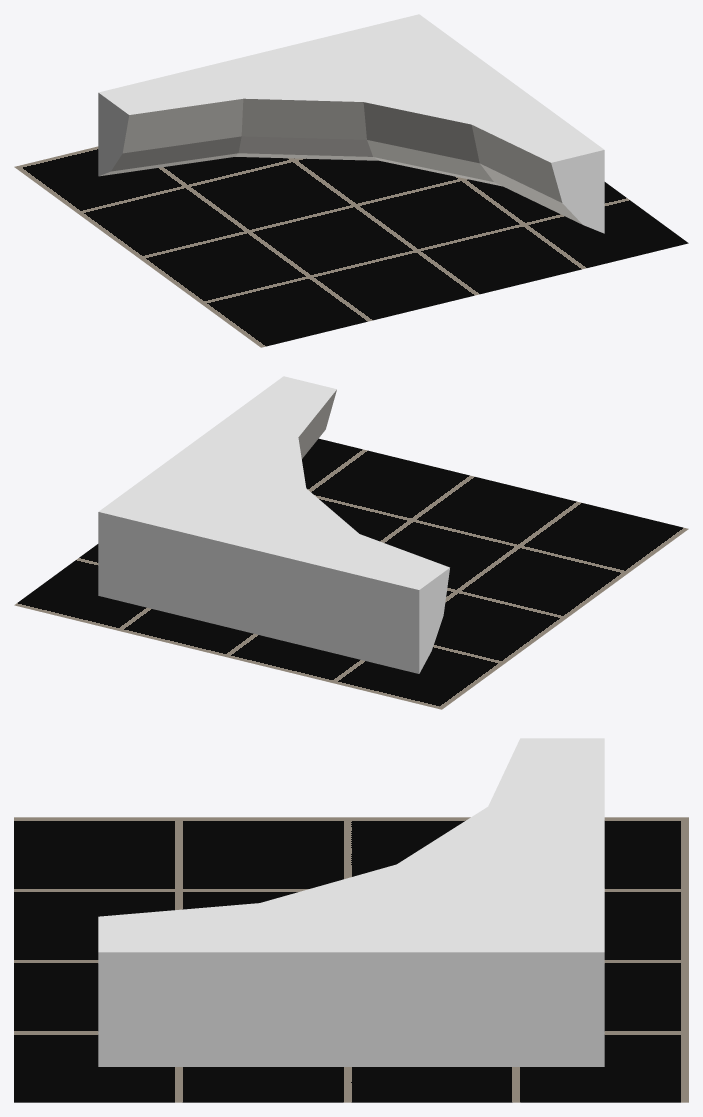
File: Basic_Curve_Inner_3x3_Under.glb
3 renders of one model, top to bottom at view 1: azimuth 30°, elevation 25°; view 2: azimuth 150°, elevation 25°; view 3: azimuth 270°, elevation 25°, orthographic. The views are drawn at different scales.
Visible parts, largest first — view 1: Floor, Basic_Curve_Inner_3x3_Under; view 2: Basic_Curve_Inner_3x3_Under, Floor; view 3: Basic_Curve_Inner_3x3_Under, Floor.
Boxes of the visible parts, left/top/right/bottom form: Floor: left=14, top=146, right=688, bottom=347; Basic_Curve_Inner_3x3_Under: left=98, top=14, right=604, bottom=233; Basic_Curve_Inner_3x3_Under: left=98, top=376, right=449, bottom=673; Floor: left=14, top=438, right=688, bottom=709; Basic_Curve_Inner_3x3_Under: left=98, top=738, right=604, bottom=1066; Floor: left=14, top=817, right=688, bottom=1102.
Size of the model in its own units: 400 by 75 by 400.
3 materials, 1 textured.
